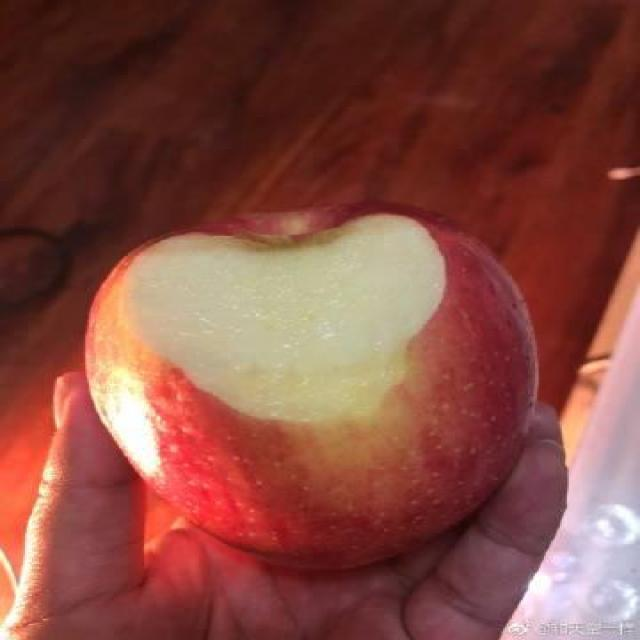Apple: (75, 198, 547, 577)
